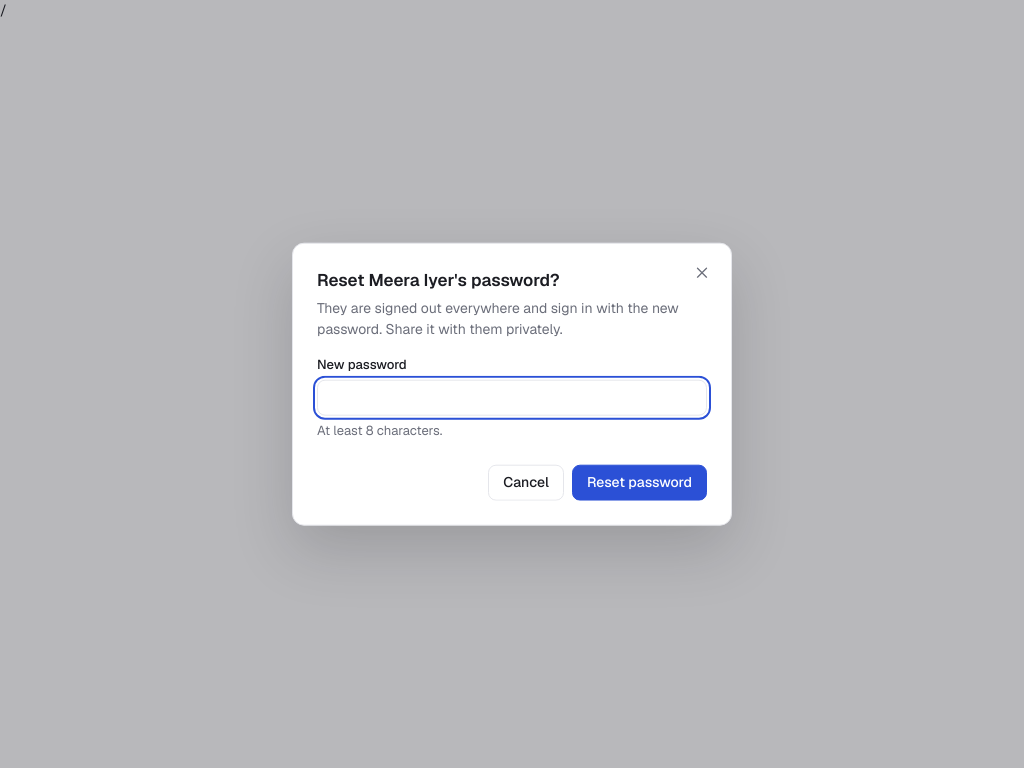
Test: refuses a short password without sending
Type "1234567" into the password field labelled "New password". click: (512, 398)
box: [317, 380, 707, 416]
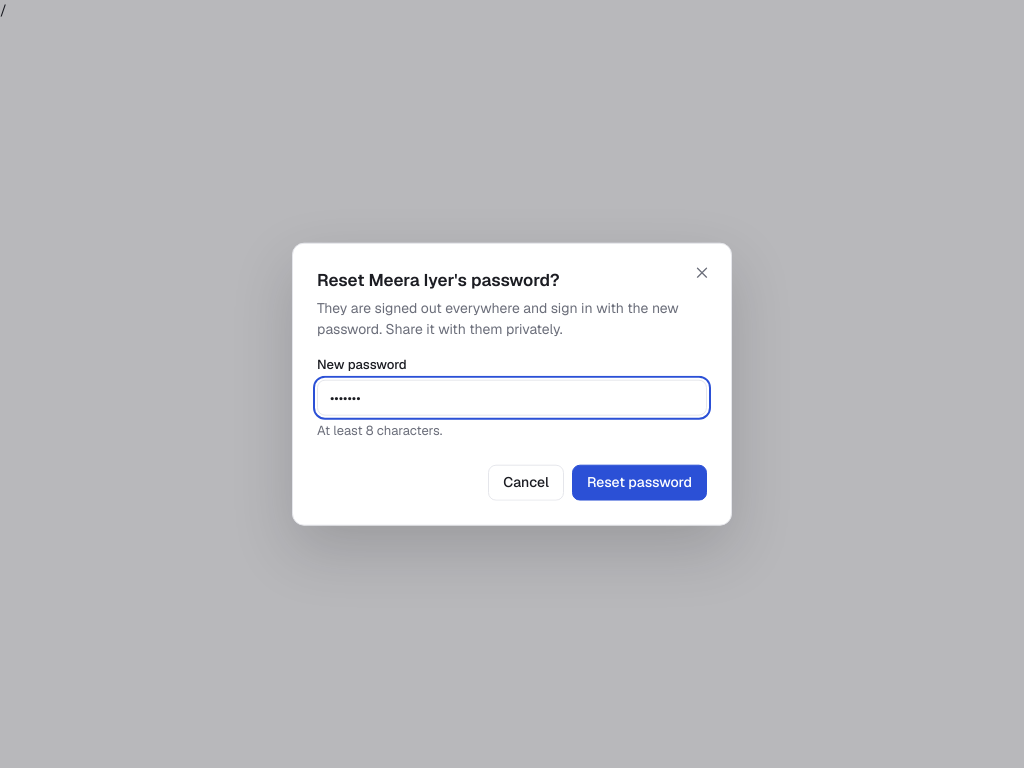
Click the button "Reset password". click: click(639, 482)
box: [572, 464, 707, 500]
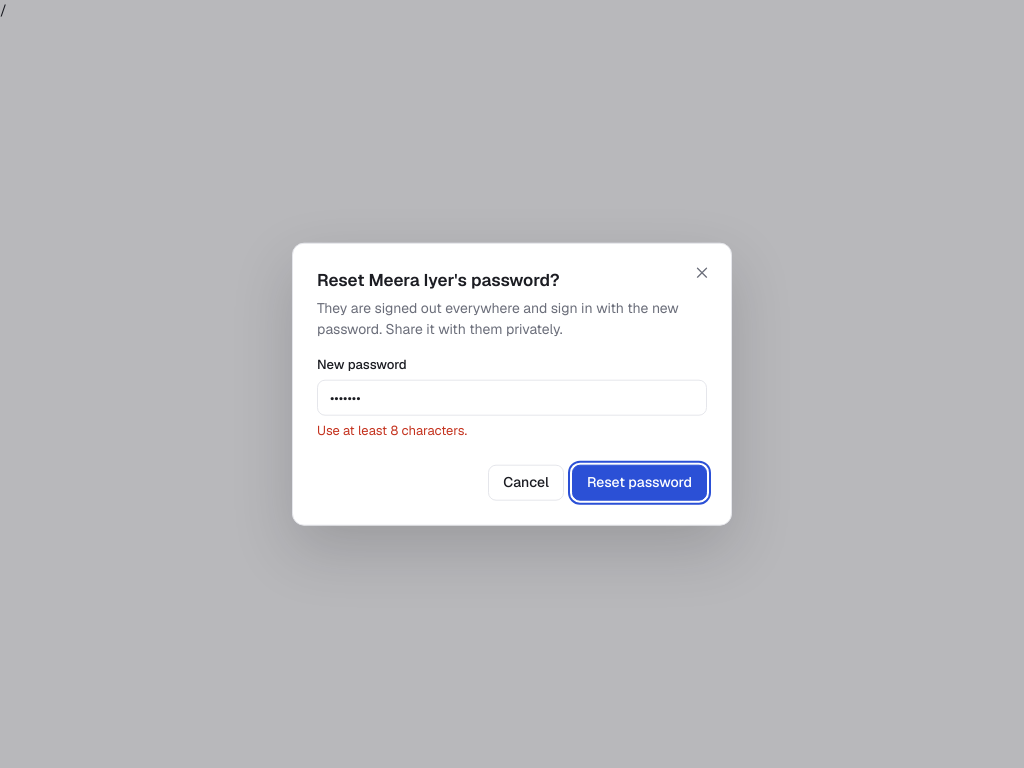
Expected: the text "Use at least 8 characters." is shown, [317, 422, 467, 439]
